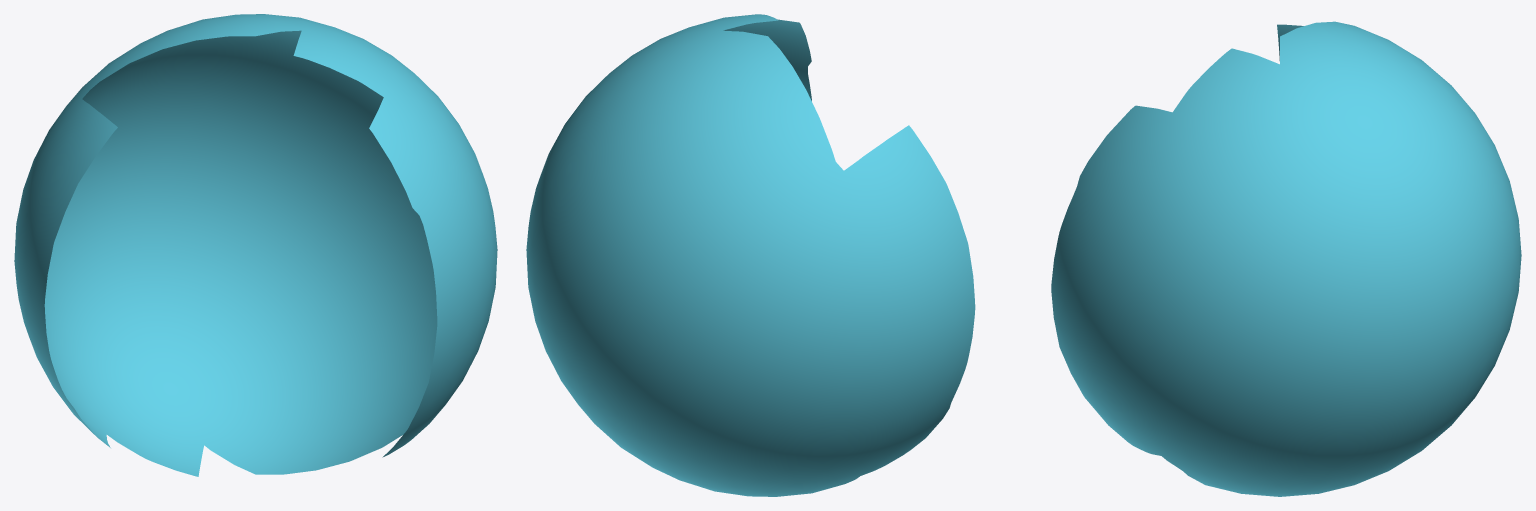
Rendered from low_grade_spirit_pill.obj.
3 views of the same model, side by side, from view 1: azimuth 30°, elevation 25°; view 2: azimuth 150°, elevation 25°; view 3: azimuth 270°, elevation 25° (orthographic).
Visible parts, largest first — view 1: Icosphere; view 2: Icosphere; view 3: Icosphere.
Part boxes in pixels (bbox=[...]): Icosphere: bbox=[14, 14, 497, 476]; Icosphere: bbox=[526, 14, 975, 496]; Icosphere: bbox=[1051, 21, 1521, 496].
Size of the model in its own units: 0.055 by 0.055 by 0.055.
